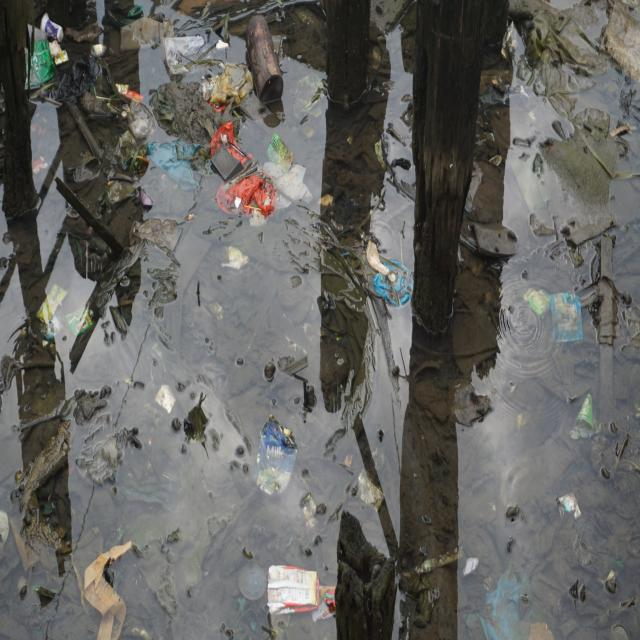Bungkus Makanan: (161, 34, 216, 79), (37, 283, 69, 326), (267, 131, 297, 173), (314, 584, 338, 624)
Bungkus Minuman: (256, 419, 298, 499), (66, 305, 96, 335), (42, 13, 67, 43)
Kantong Plastik: (209, 122, 278, 221), (147, 140, 202, 187), (57, 56, 104, 104), (211, 61, 255, 109), (374, 258, 414, 308)
